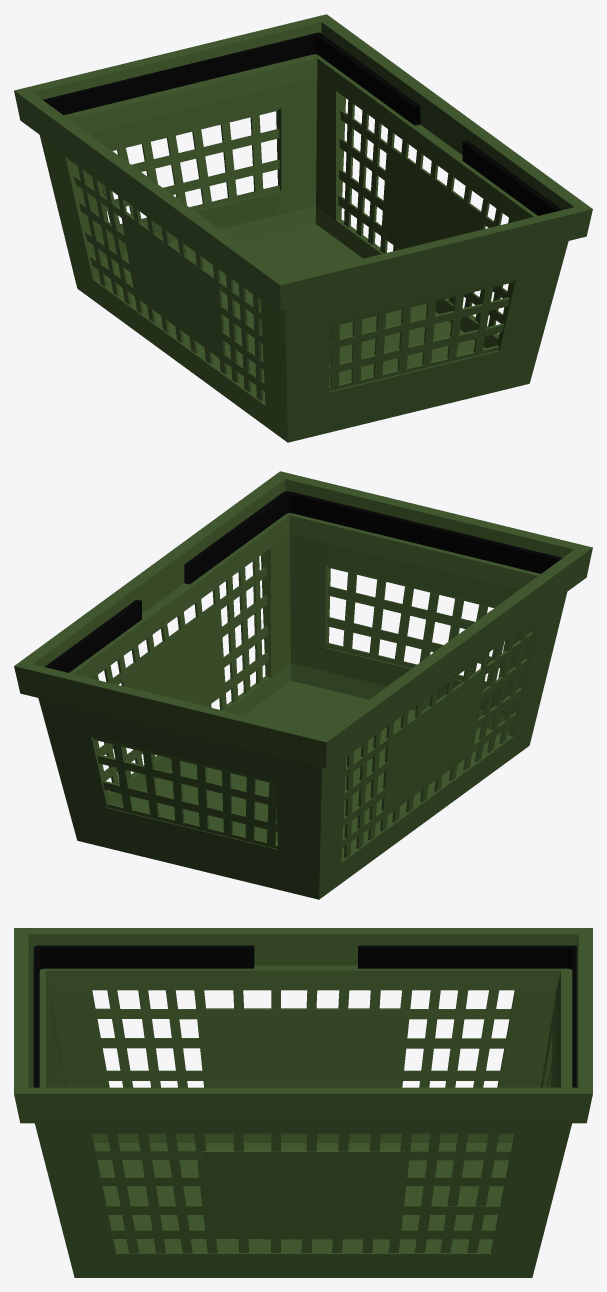
File: Ma_Basket_2.fbx
3 renders of one model, top to bottom at view 1: azimuth 30°, elevation 25°; view 2: azimuth 150°, elevation 25°; view 3: azimuth 270°, elevation 25°, orthographic. The views are drawn at different scales.
Parts seen in each view (by area): view 1: Ma_Basket_2; view 2: Ma_Basket_2; view 3: Ma_Basket_2.
Boxes of the visible parts, x1,y1,x2,y2 form: Ma_Basket_2: (14,14,592,442); Ma_Basket_2: (14,471,592,899); Ma_Basket_2: (14,928,592,1277).
Size of the model in its own units: 332 by 490 by 189.
